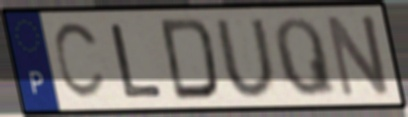C: (51, 19, 108, 103)
D: (157, 15, 223, 103)
L: (108, 21, 166, 100)
N: (323, 12, 393, 101)
Q: (272, 15, 340, 100)
U: (212, 15, 281, 100)
